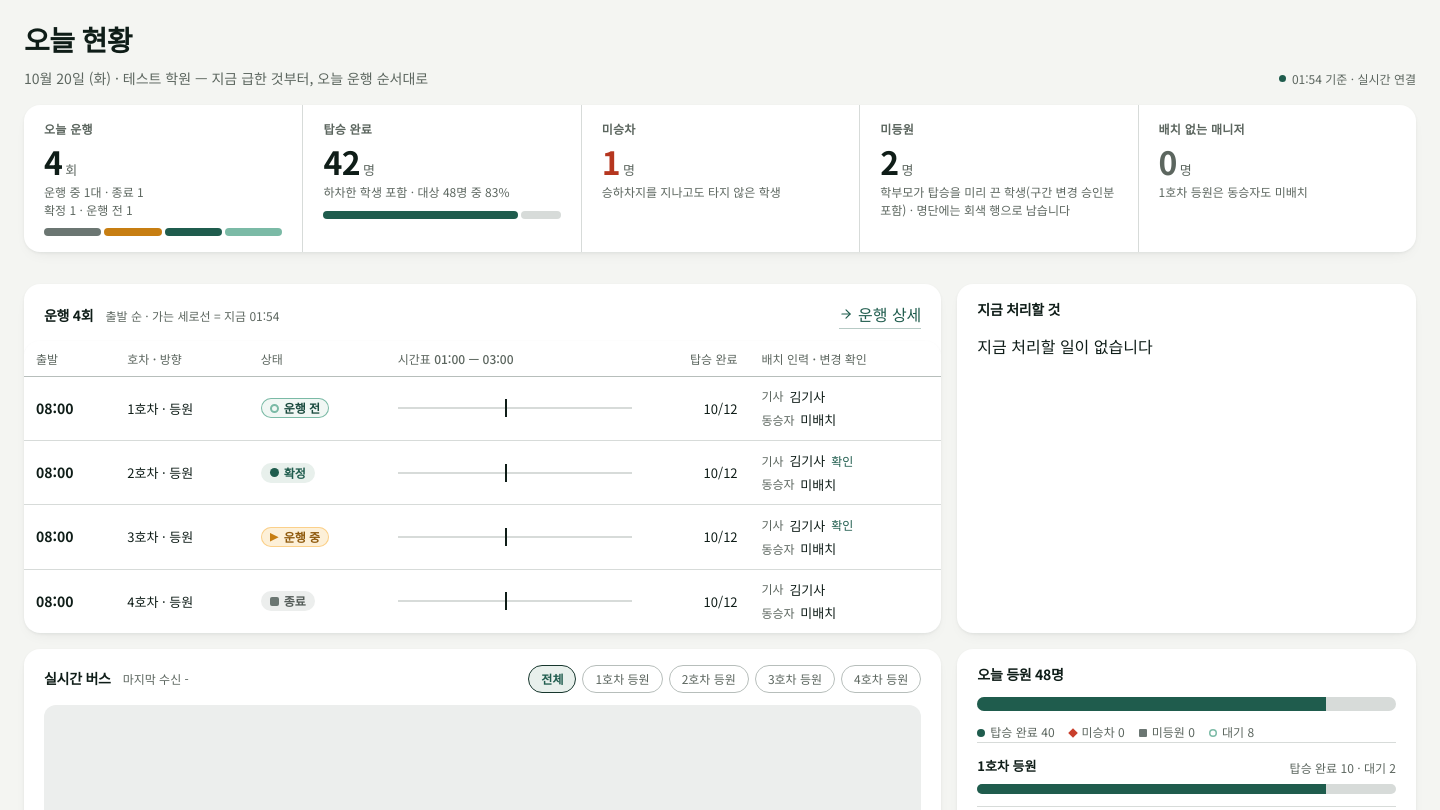
Test: DashboardPage — 버스 목록 4종 상태·노선 선택 › 버스를 클릭하면 그 회차의 §5.19 노선을 조회하고, 근사 경로면 안내를 보여준다
The width and height of the screenshot is (1440, 810).
What coordinates should you click on to do the following:
click the button "3호차 등원"
I would click on:
 (795, 679)
Its box is [755,665,835,693].
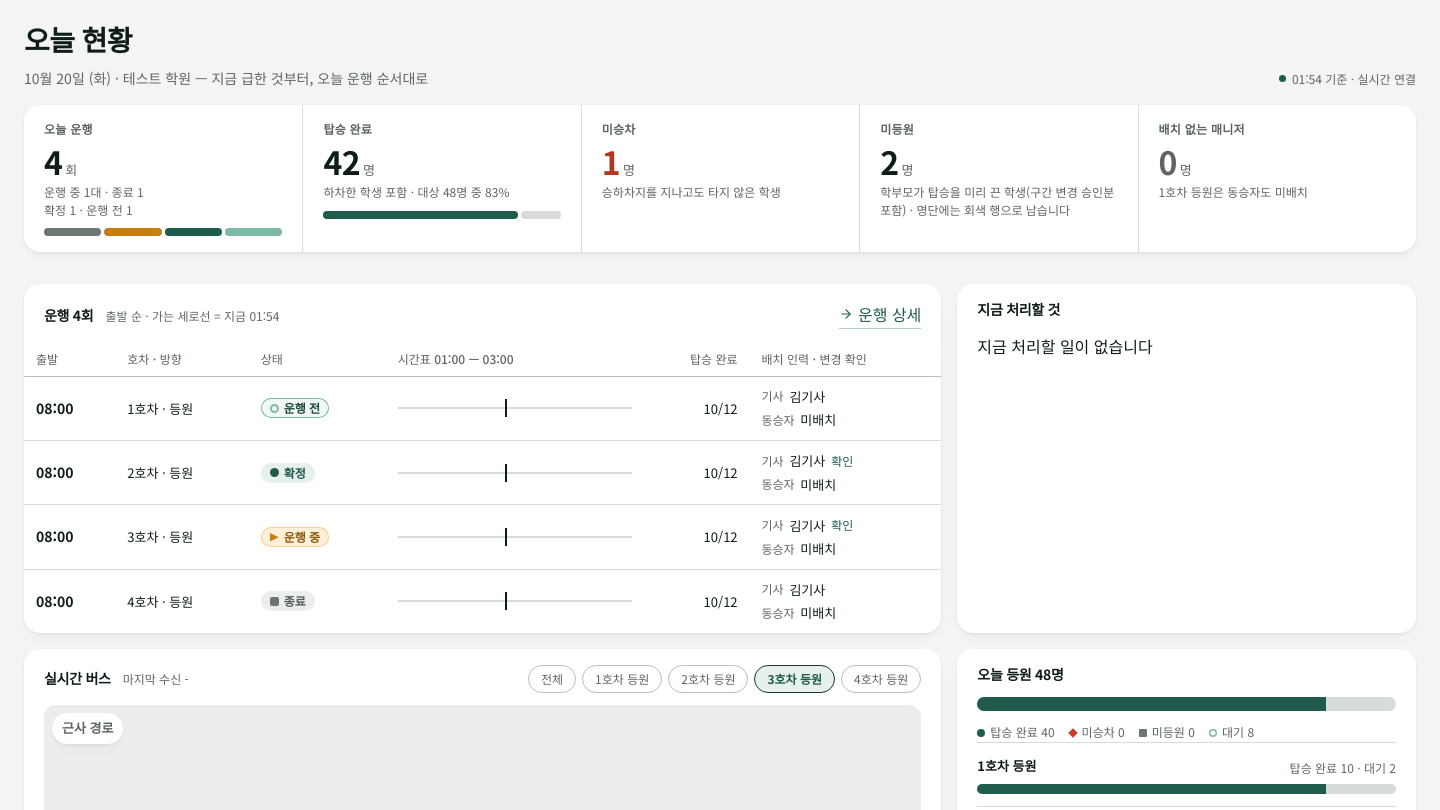
Result: the text "근사 경로" is shown at [52,713,124,744]
